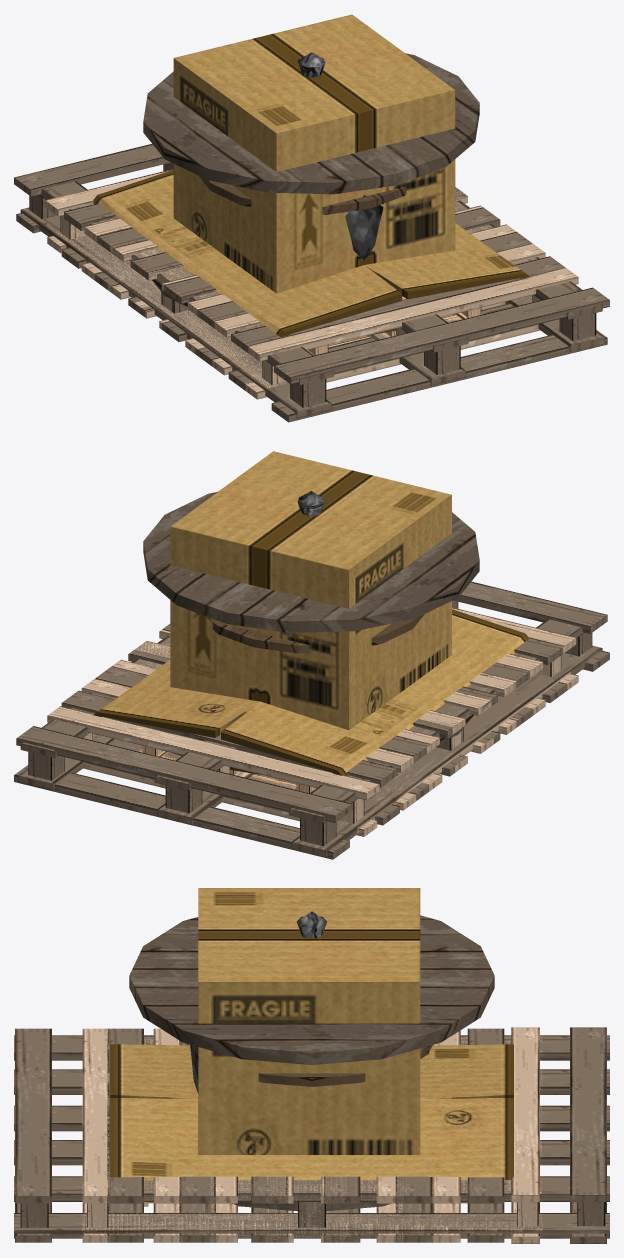
File: trash_mesh.fbx
The picture shows the model from 3 angles, top to bottom: view 1: azimuth 30°, elevation 25°; view 2: azimuth 150°, elevation 25°; view 3: azimuth 270°, elevation 25°; orthographic projection. The views are drawn at different scales.
Parts seen in each view (by area): view 1: cardboardBox01, pallet02, cardboardBoxBroken01, pallet03, spool01, spool02, garbageBagClosed02, pallet01; view 2: cardboardBox01, pallet02, cardboardBoxBroken01, pallet03, spool01, spool02, pallet01; view 3: cardboardBox01, pallet02, cardboardBoxBroken01, pallet03, spool01, spool02.
Part boxes in pixels (x1,y1,x2,y2): cardboardBox01: (173, 14, 455, 293); pallet02: (14, 144, 609, 422); cardboardBoxBroken01: (93, 170, 529, 337); pallet03: (45, 169, 578, 399); spool01: (143, 53, 479, 306); spool02: (198, 175, 406, 214); garbageBagClosed02: (299, 64, 383, 260); pallet01: (307, 296, 483, 355); cardboardBox01: (170, 451, 451, 730); pallet02: (14, 581, 609, 859); cardboardBoxBroken01: (93, 609, 529, 775); pallet03: (47, 607, 578, 836); spool01: (143, 491, 479, 742); spool02: (212, 614, 424, 653); pallet01: (139, 746, 316, 793); cardboardBox01: (198, 888, 420, 1154); pallet02: (14, 1027, 609, 1243); cardboardBoxBroken01: (110, 1044, 513, 1180); pallet03: (81, 1027, 542, 1243); spool01: (129, 915, 494, 1211); spool02: (191, 1045, 432, 1086).
Bounding box in the file's own units: 201 × 138 × 300.
